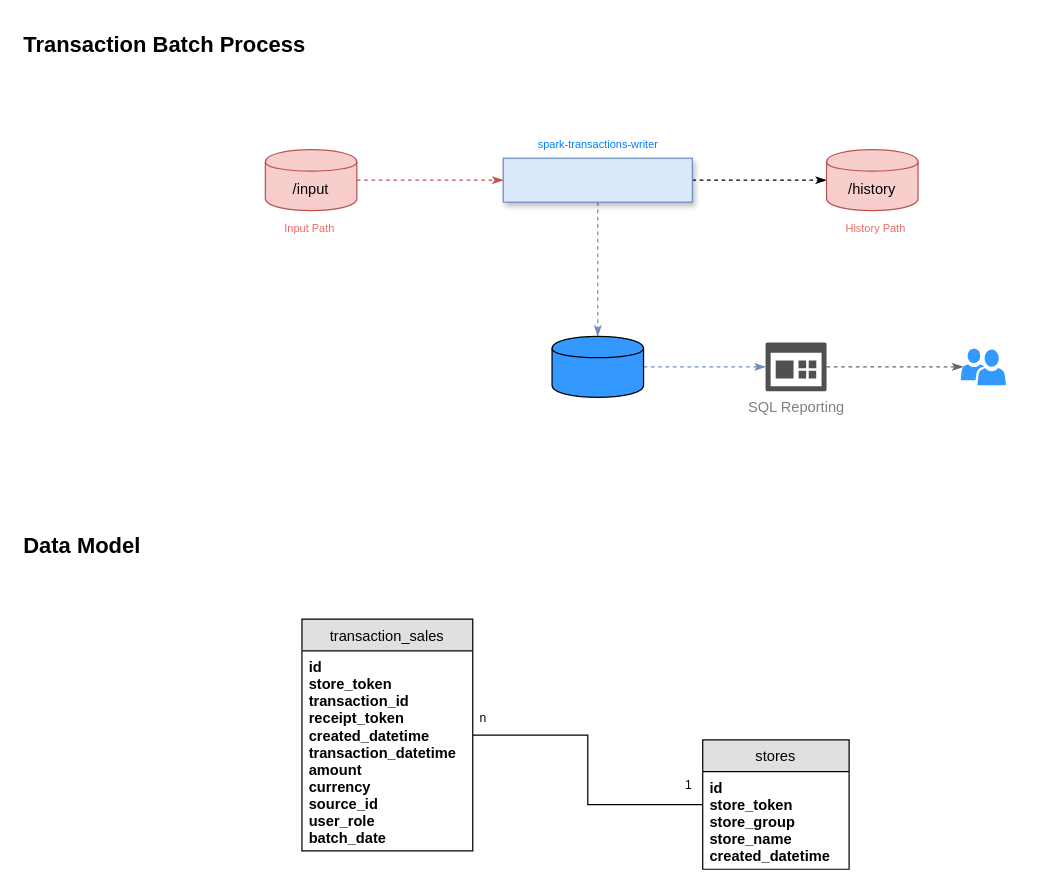
Image size: 1055x893. Some labels were removed from this diagram. Here are the shapes that lost their labels. From the top down, the centre of each, then its label:
At (598,181): "batch-write-transactions".
At (597,366): "R2 MySQL".
At (982,366): "Business Users".
